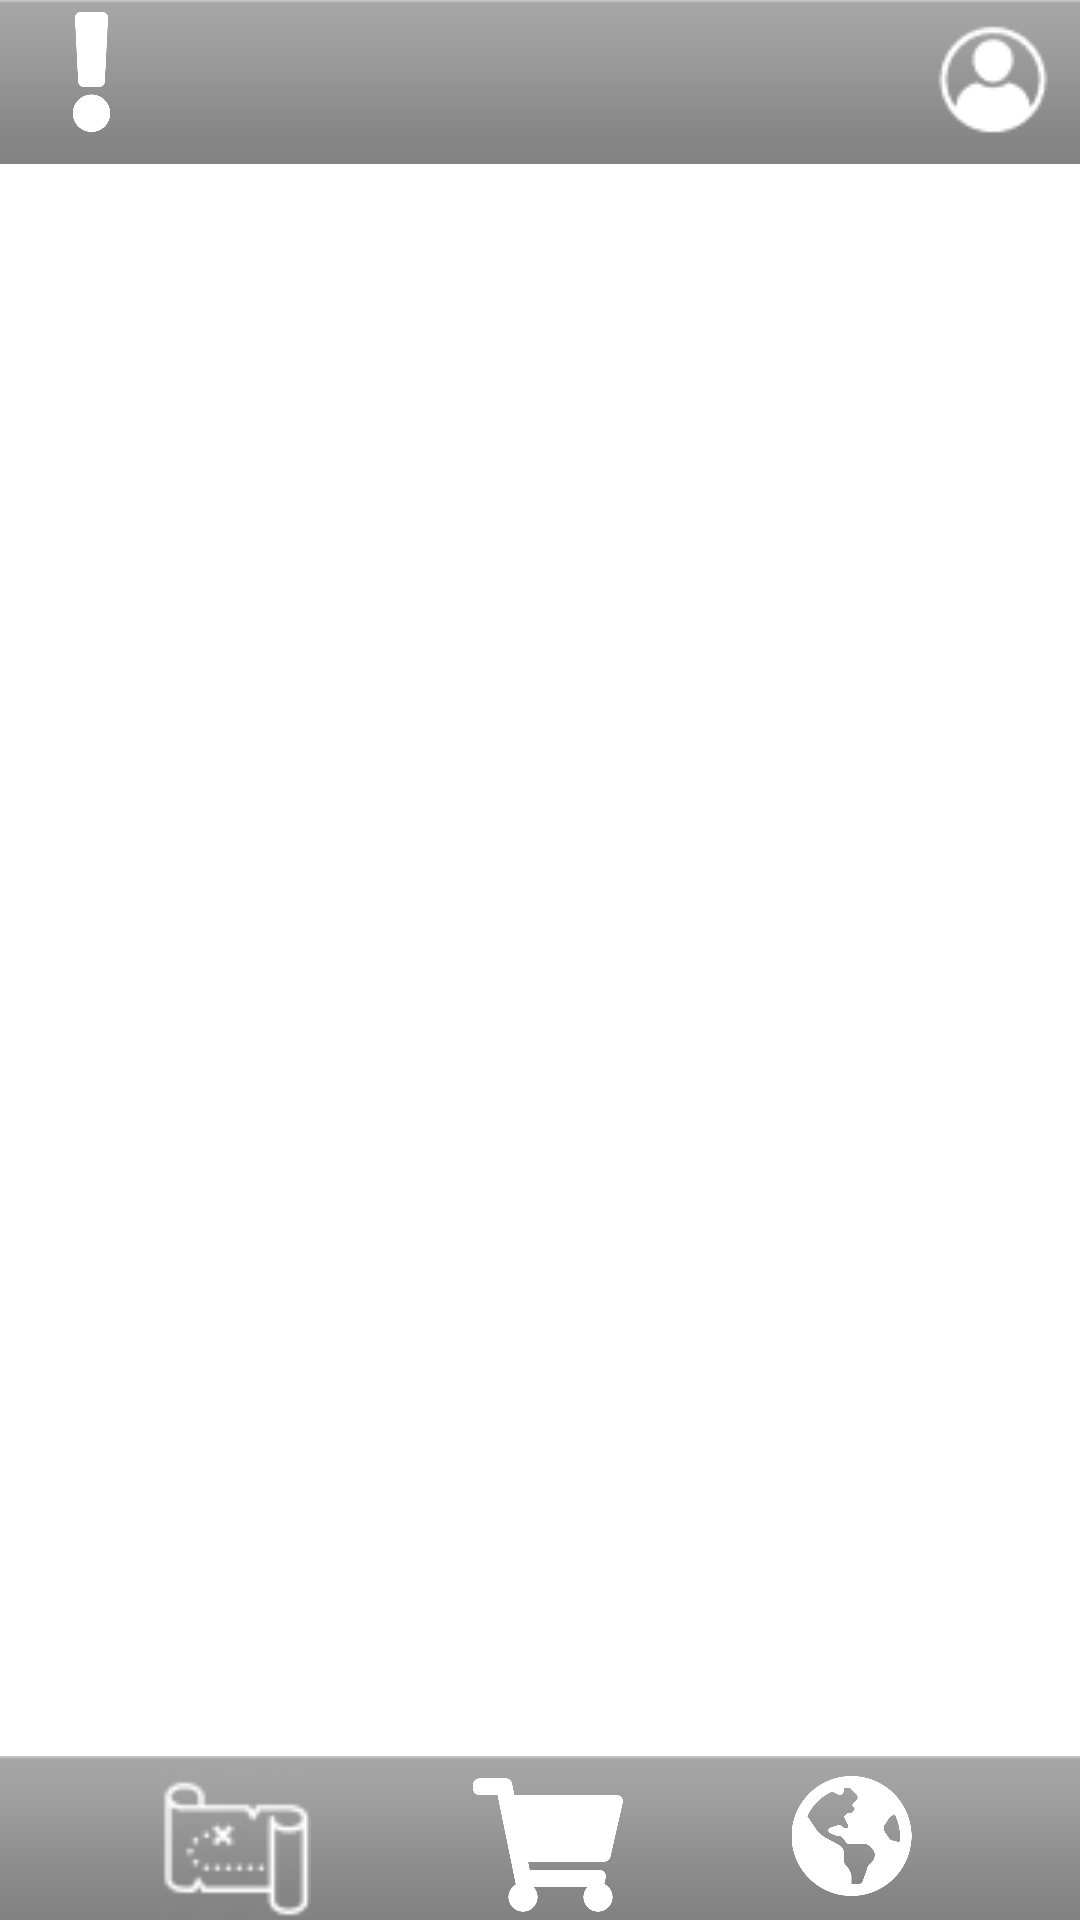

Screen size 1080px×1920px. Icon name, then its center in pixels as (x,y):
earthicon: (851,1836)
excla: (91,72)
mapawhite: (236,1850)
profile: (993,79)
shoping: (548,1849)
